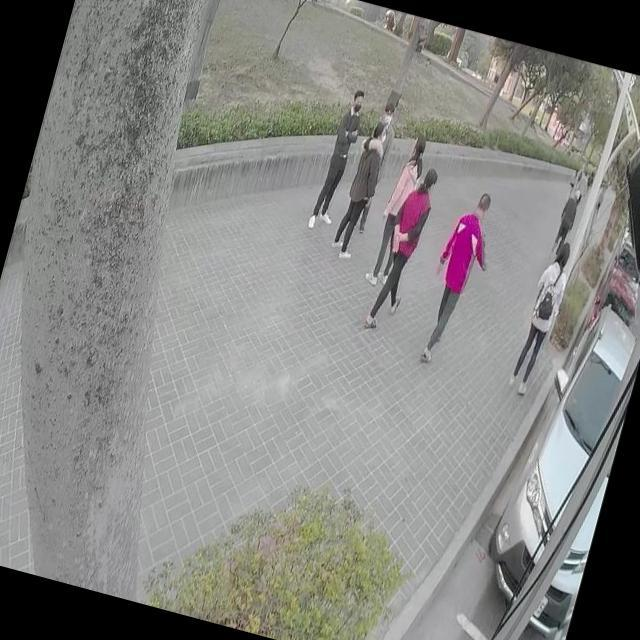person: (413, 185, 504, 372), (364, 158, 441, 336), (506, 235, 576, 397), (366, 127, 430, 286), (345, 90, 408, 245), (308, 84, 370, 235), (331, 118, 388, 259), (549, 188, 580, 254), (571, 168, 590, 208), (565, 162, 579, 195)
